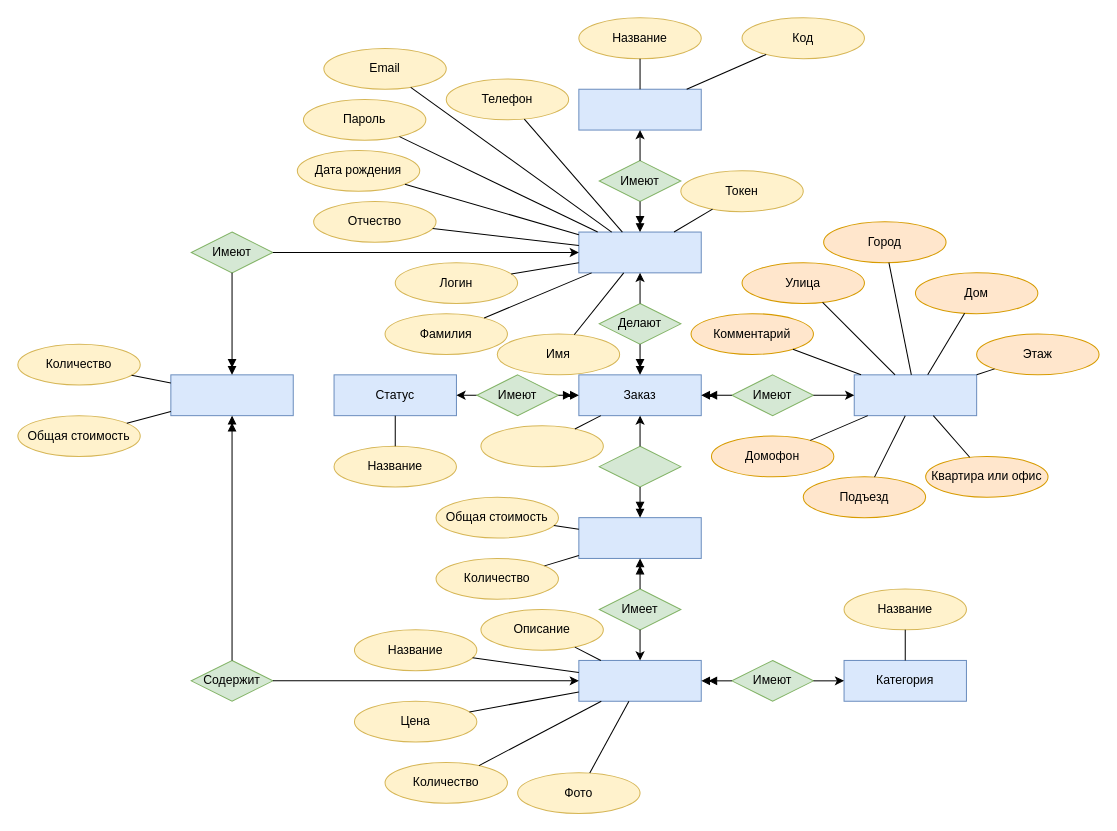
This 1117x831 diagram has some shape labels left out. Each missing label, with the centre of its shape:
"Адрес" goes at [915,395].
"Входит" goes at [639,466].
"Дата" goes at [541,446].
"Корзина" goes at [231,395].
"Пользователь" goes at [639,252].
"Роль" goes at [639,109].
"Состав заказа" goes at [639,537].
"Товар" goes at [639,680].
